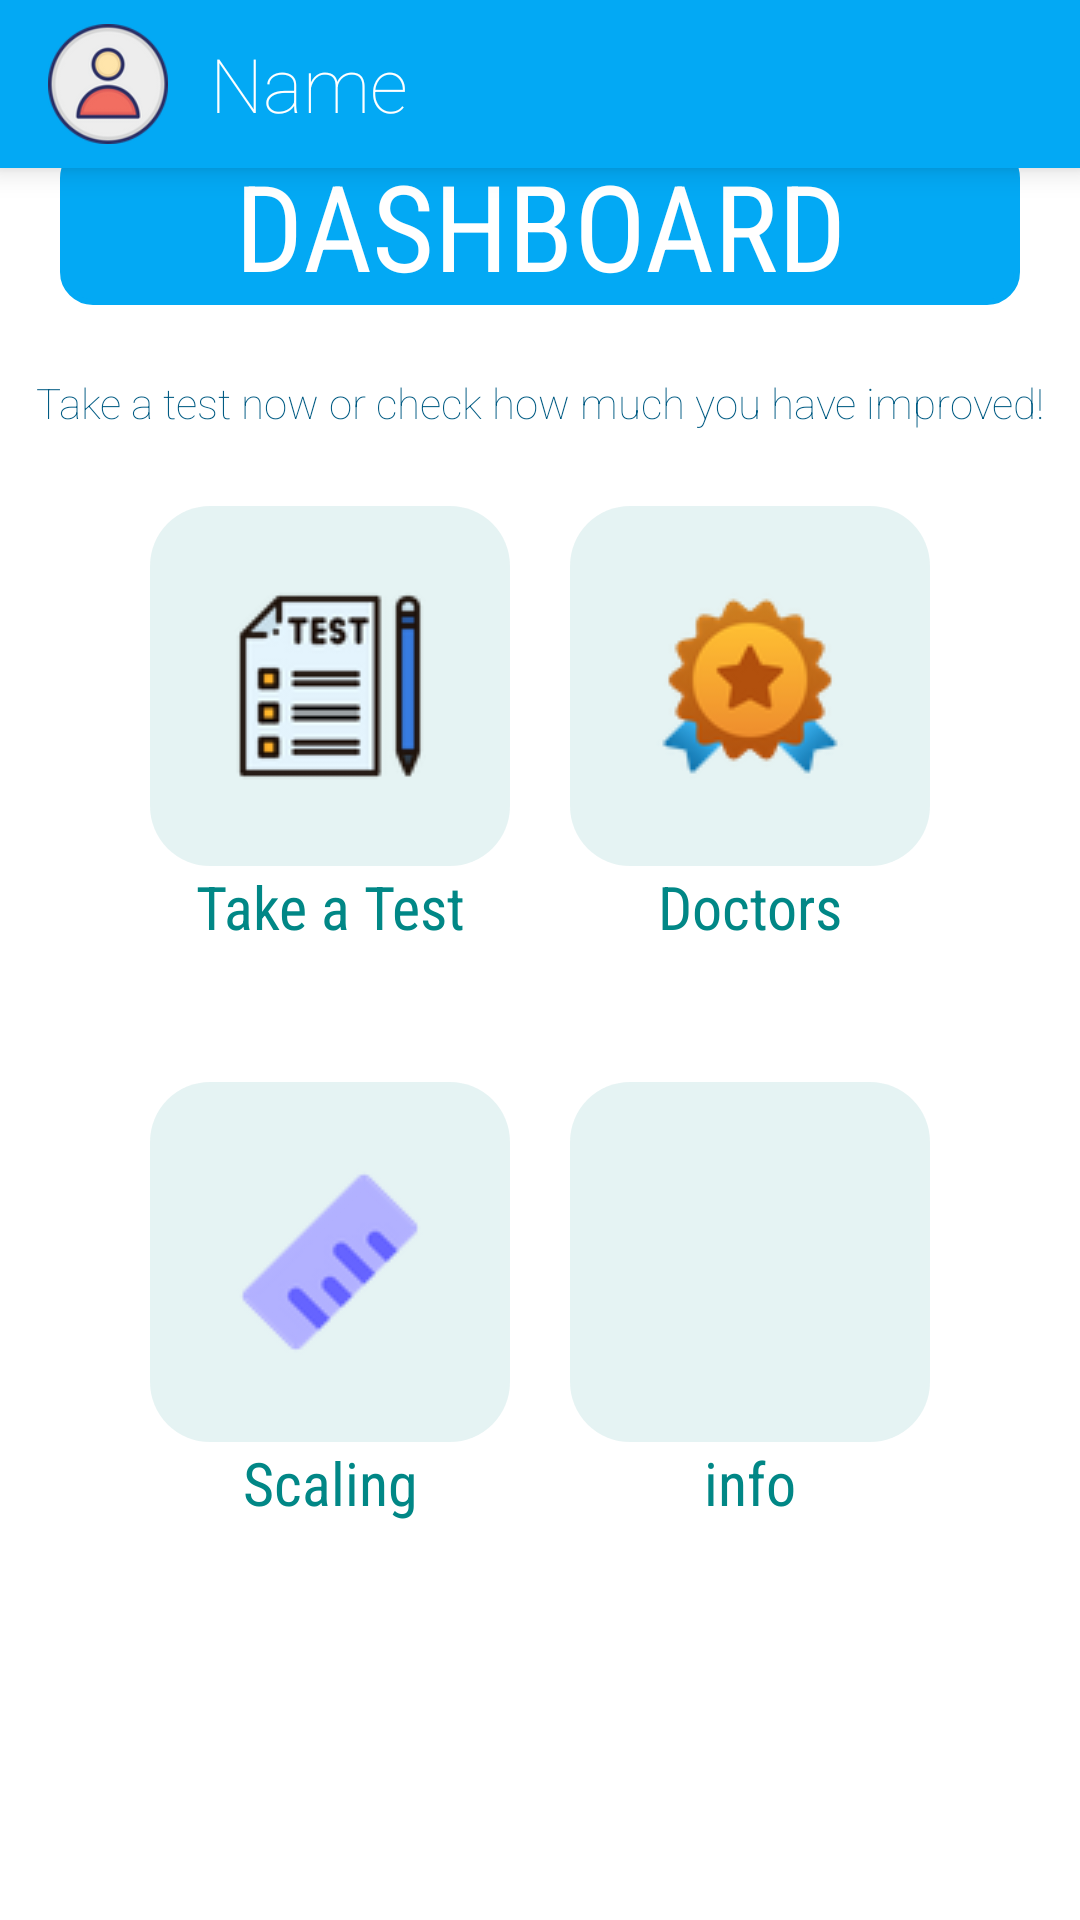

Screen size 1080 × 1920. Icon name, then its box in pixels as detection(x1, y1, x2, y2):
medal: detection(570, 506, 930, 866)
profile: detection(48, 24, 168, 144)
